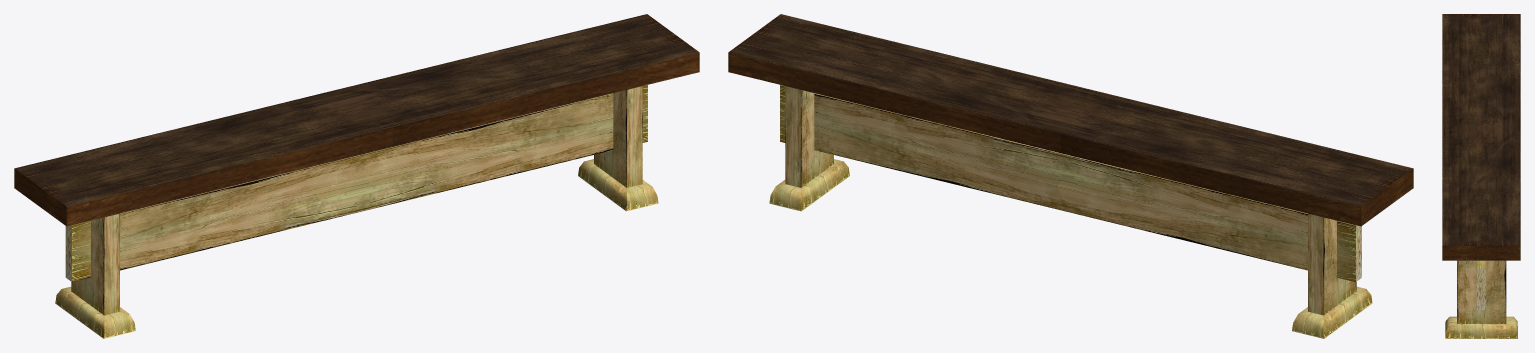
The model's file is pir_m_prp_set_bench_destructible.fbx.
The picture shows the model from 3 angles, left to right: view 1: azimuth 30°, elevation 25°; view 2: azimuth 150°, elevation 25°; view 3: azimuth 270°, elevation 25°; orthographic projection. The views are drawn at different scales.
Parts seen in each view (by area): view 1: seatPiece01, seatPiece02, underPiece01, underPiece02, leg01, leg02; view 2: seatPiece01, seatPiece02, underPiece01, underPiece02, leg01, leg02; view 3: seatPiece02, seatPiece01, leg01, underPiece02.
Part boxes in pixels (x1=…): seatPiece01: x1=14, y1=94, x2=392, y2=226; seatPiece02: x1=316, y1=14, x2=699, y2=146; underPiece01: x1=65, y1=153, x2=370, y2=281; underPiece02: x1=360, y1=85, x2=647, y2=211; leg01: x1=578, y1=86, x2=658, y2=211; leg02: x1=55, y1=213, x2=135, y2=338; seatPiece01: x1=1035, y1=89, x2=1413, y2=226; seatPiece02: x1=728, y1=14, x2=1086, y2=152; underPiece01: x1=1057, y1=153, x2=1361, y2=282; underPiece02: x1=780, y1=85, x2=1067, y2=211; leg01: x1=769, y1=86, x2=849, y2=211; leg02: x1=1292, y1=213, x2=1372, y2=338; seatPiece02: x1=1442, y1=124, x2=1520, y2=260; seatPiece01: x1=1442, y1=14, x2=1520, y2=137; leg01: x1=1445, y1=260, x2=1517, y2=338; underPiece02: x1=1477, y1=260, x2=1486, y2=309.
Size of the model in its own units: 698 by 151 by 100.
Materials: 1 (1 with a texture image).
